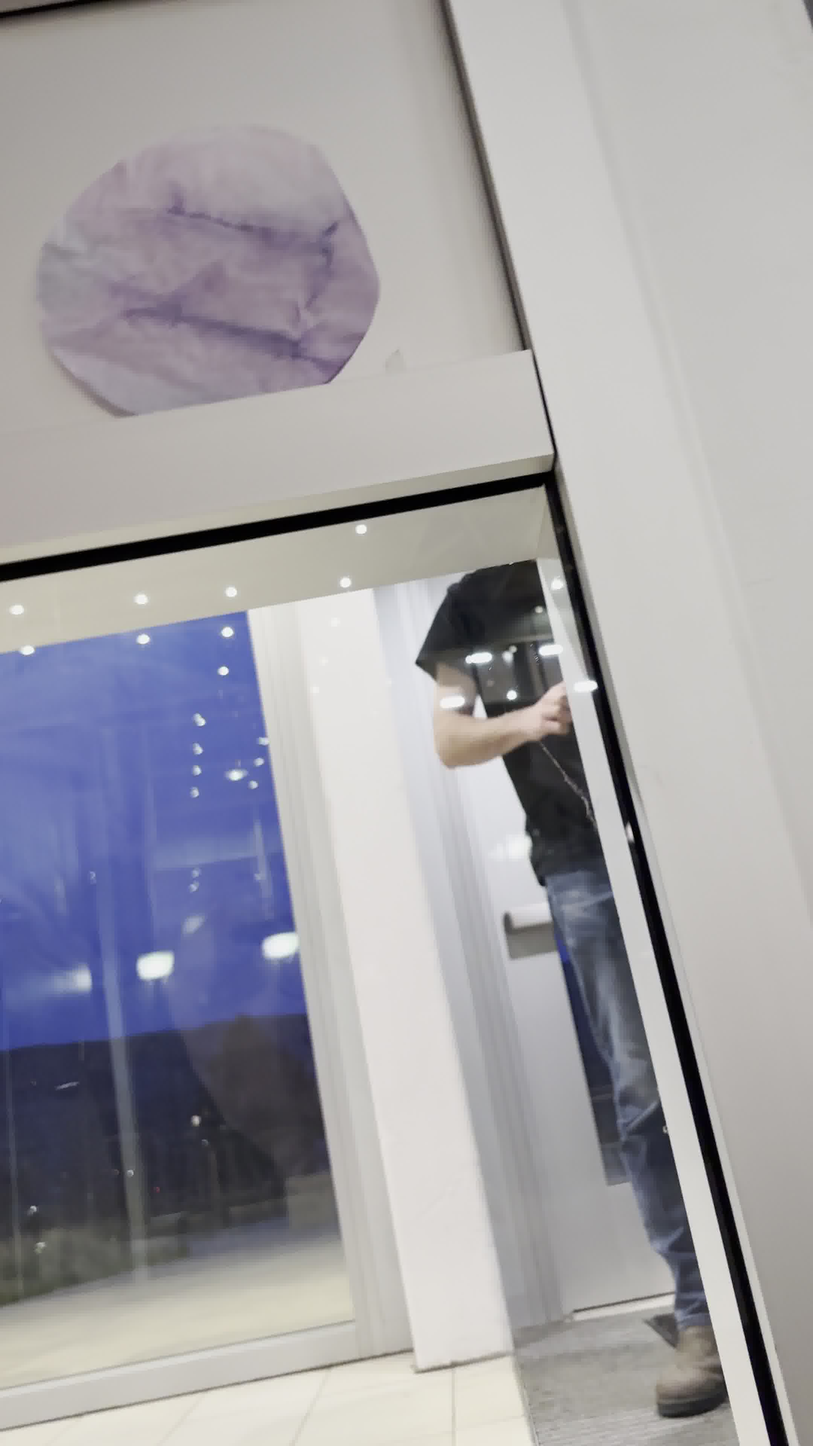Target: (20, 104, 392, 432)
